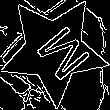M_SW: (21, 16, 87, 84)
